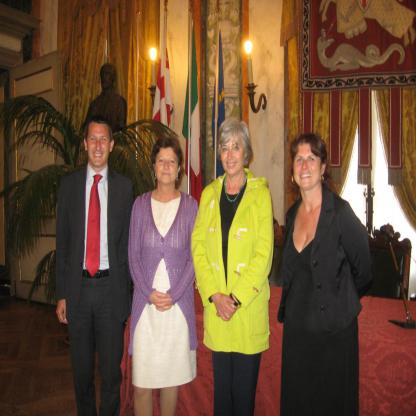face: (293, 143, 322, 187), (87, 123, 111, 167), (221, 135, 246, 175), (157, 147, 179, 185)
